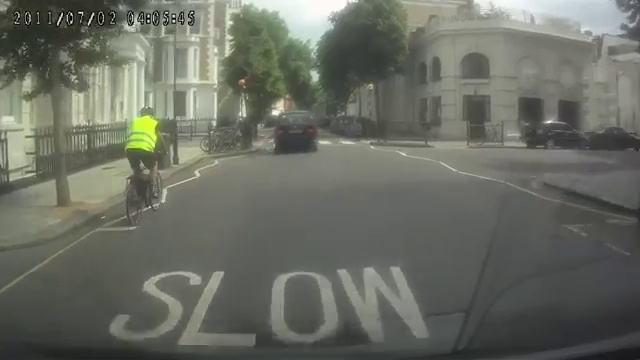cyclist_back: (119, 101, 167, 228)
